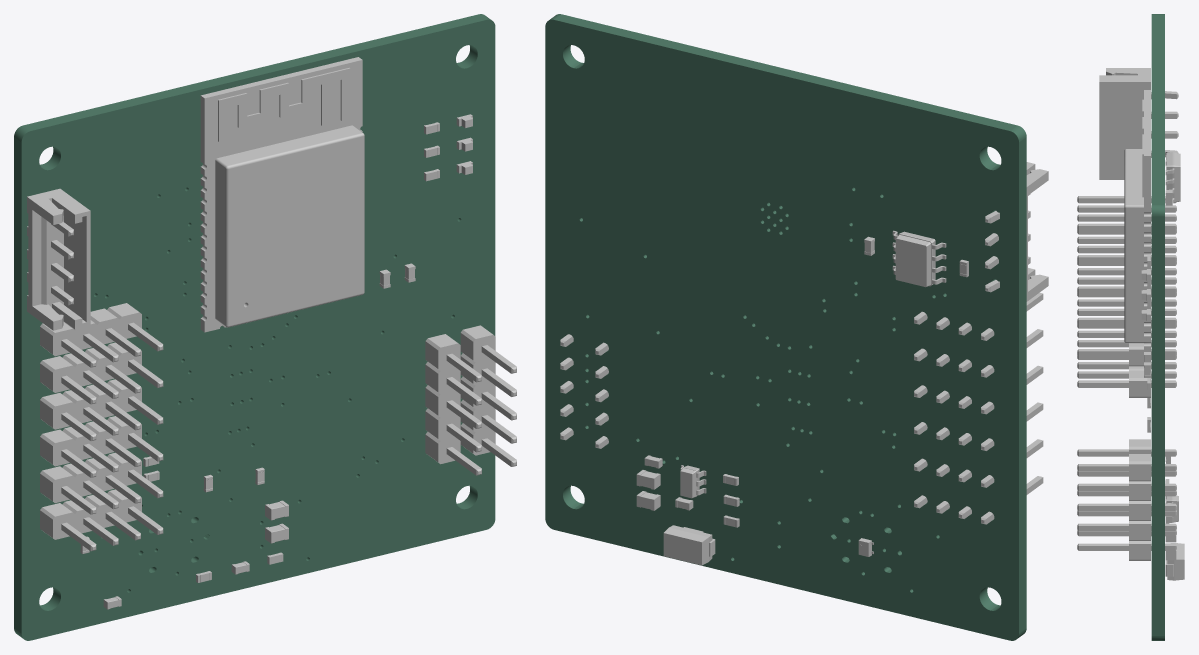
Rendered from sensor_module.glb.
The picture shows the model from 3 angles, left to right: view 1: azimuth 30°, elevation 25°; view 2: azimuth 150°, elevation 25°; view 3: azimuth 270°, elevation 25°; orthographic projection. The views are drawn at different scales.
Visible parts, largest first — view 1: empty_95, empty_6, empty_5, empty_3, empty_67, empty_74, empty_78, empty_79, empty_76, empty_2, empty_64, empty_72 (+1 smaller); view 2: empty_95, empty_85, empty_3, empty_88, empty_91, empty_64, empty_79, empty_2, empty_72, empty_76, empty_78; view 3: empty_95, empty_74, empty_3, empty_6, empty_67, empty_79, empty_64, empty_78, empty_72, empty_76, empty_2, empty_5 (+4 smaller).
Boxes of the visible parts, bbox=[...] form: empty_95: bbox=[14, 14, 495, 640]; empty_6: bbox=[215, 125, 364, 327]; empty_5: bbox=[200, 57, 362, 332]; empty_3: bbox=[27, 188, 90, 330]; empty_67: bbox=[425, 334, 481, 475]; empty_74: bbox=[460, 325, 516, 466]; empty_78: bbox=[40, 303, 163, 367]; empty_79: bbox=[40, 489, 163, 551]; empty_76: bbox=[40, 342, 163, 404]; empty_2: bbox=[40, 379, 163, 440]; empty_64: bbox=[40, 452, 163, 514]; empty_72: bbox=[40, 416, 163, 477]; empty_95: bbox=[545, 14, 1026, 640]; empty_85: bbox=[892, 230, 946, 287]; empty_3: bbox=[985, 162, 1048, 301]; empty_88: bbox=[663, 525, 715, 565]; empty_91: bbox=[680, 465, 706, 498]; empty_64: bbox=[914, 439, 1043, 487]; empty_79: bbox=[914, 476, 1043, 524]; empty_2: bbox=[914, 365, 1043, 414]; empty_72: bbox=[914, 402, 1043, 450]; empty_76: bbox=[914, 329, 1043, 377]; empty_78: bbox=[914, 292, 1043, 340]; empty_95: bbox=[1151, 14, 1164, 640]; empty_74: bbox=[1077, 454, 1176, 560]; empty_3: bbox=[1099, 68, 1178, 179]; empty_6: bbox=[1124, 149, 1143, 343]; empty_67: bbox=[1077, 439, 1176, 536]; empty_79: bbox=[1077, 355, 1176, 397]; empty_64: bbox=[1077, 324, 1176, 366]; empty_78: bbox=[1077, 196, 1176, 230]; empty_72: bbox=[1077, 292, 1176, 324]; empty_76: bbox=[1077, 229, 1176, 262]; empty_2: bbox=[1077, 261, 1176, 293]; empty_5: bbox=[1144, 90, 1150, 351].
Bounding box in the file's own units: 54 × 55.55 × 12.44.
